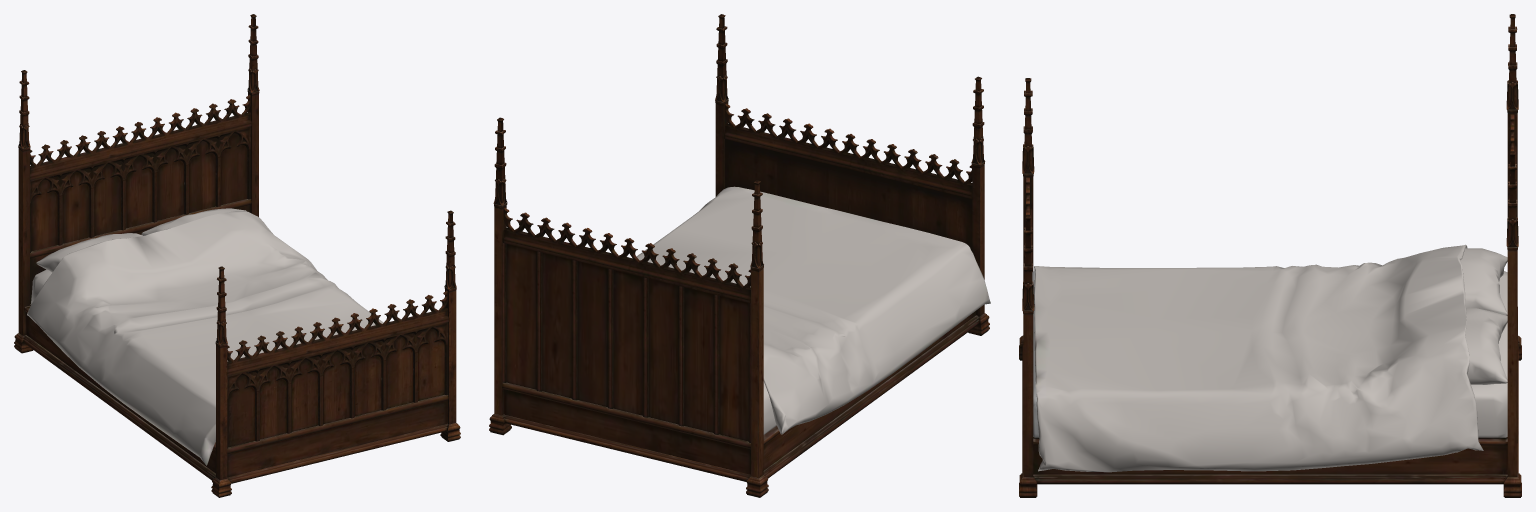
File: gothicbed_01.glb
The picture shows the model from 3 angles, left to right: view 1: azimuth 30°, elevation 25°; view 2: azimuth 150°, elevation 25°; view 3: azimuth 270°, elevation 25°; orthographic projection. The views are drawn at different scales.
Visible parts, largest first — view 1: GothicBed_01; view 2: GothicBed_01; view 3: GothicBed_01.
Boxes of the visible parts, x1,y1,x2,y2 form: GothicBed_01: (14,14,460,497); GothicBed_01: (489,14,990,497); GothicBed_01: (1019,14,1521,497).
Size of the model in its own units: 1.49 by 1.53 by 2.04.
1 material, 1 textured.
